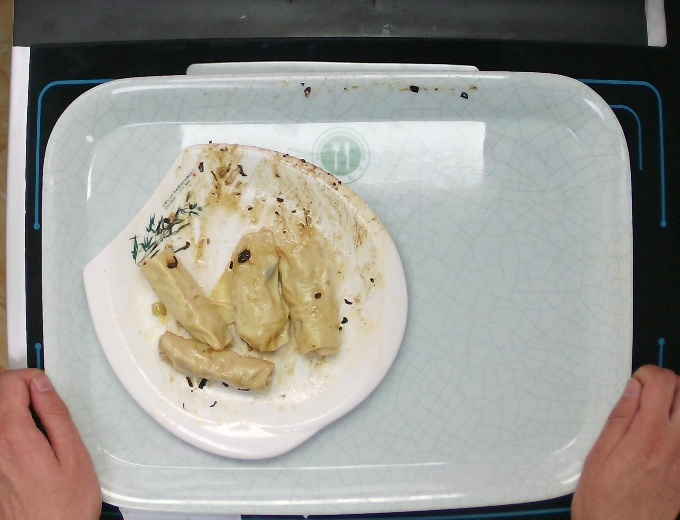JYsf-Mian_Pan: (74, 136, 418, 471)
